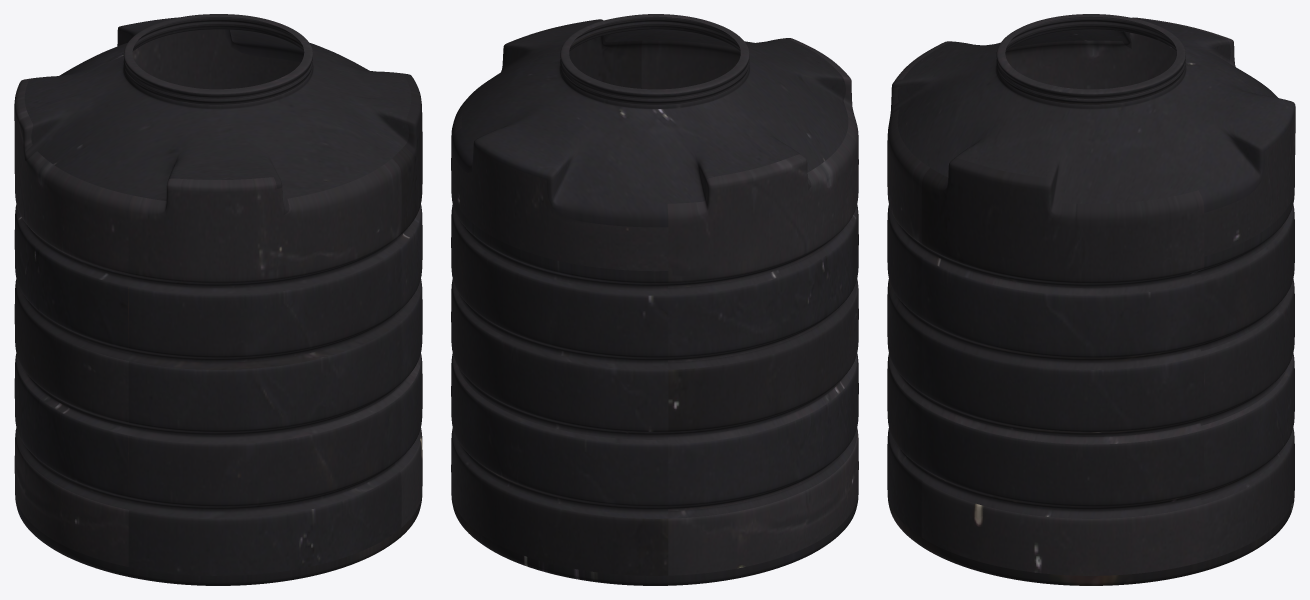
The model's file is BarrelBlack.fbx.
3 renders of one model, left to right at view 1: azimuth 30°, elevation 25°; view 2: azimuth 150°, elevation 25°; view 3: azimuth 270°, elevation 25°, orthographic.
Visible parts, largest first — view 1: Cylinder; view 2: Cylinder; view 3: Cylinder.
Part boxes in pixels (<box>): Cylinder: <box>14,14,422,585</box>; Cylinder: <box>451,14,858,585</box>; Cylinder: <box>887,14,1295,585</box>.
Size of the model in its own units: 199 by 241 by 199.
